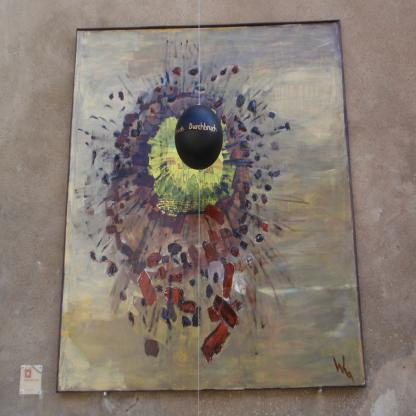Ball: (174, 105, 223, 171)
